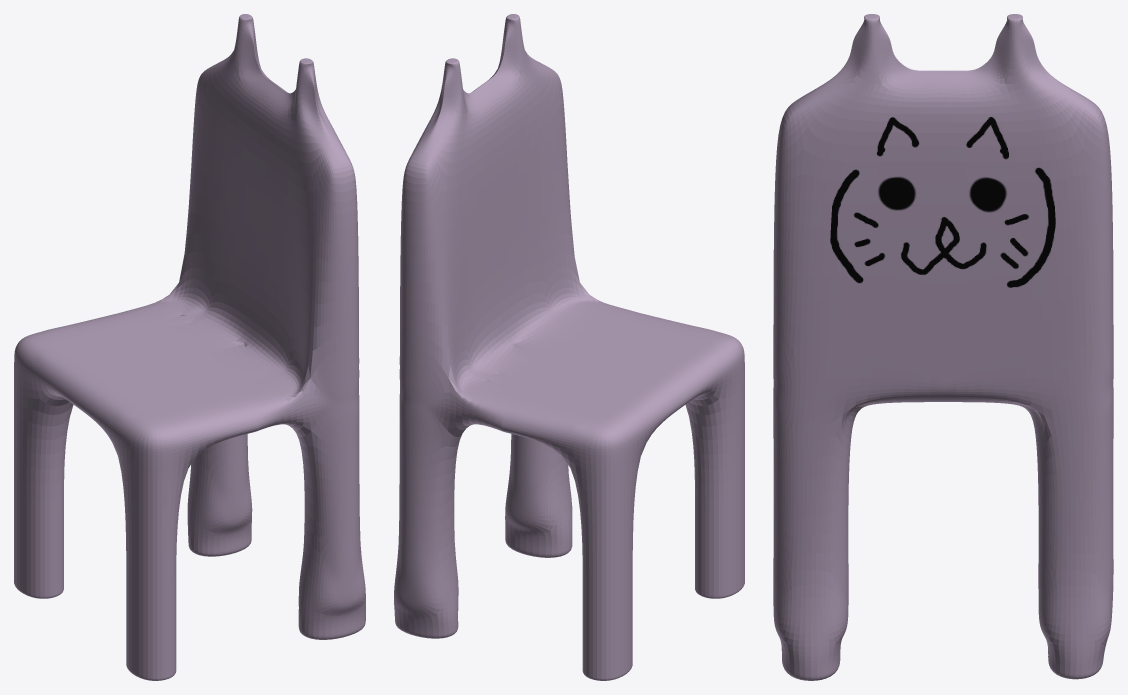
Rendered from Chair.fbx.
3 views of the same model, side by side, from view 1: azimuth 30°, elevation 25°; view 2: azimuth 150°, elevation 25°; view 3: azimuth 270°, elevation 25° (orthographic). The views are drawn at different scales.
Parts seen in each view (by area): view 1: toyChair; view 2: toyChair; view 3: toyChair.
Part boxes in pixels (bbox=[...]): toyChair: bbox=[14, 14, 365, 680]; toyChair: bbox=[394, 14, 744, 680]; toyChair: bbox=[773, 14, 1113, 680].
Bounding box in the file's own units: 98.75 × 224 × 106.
Materials: 1 (1 with a texture image).
